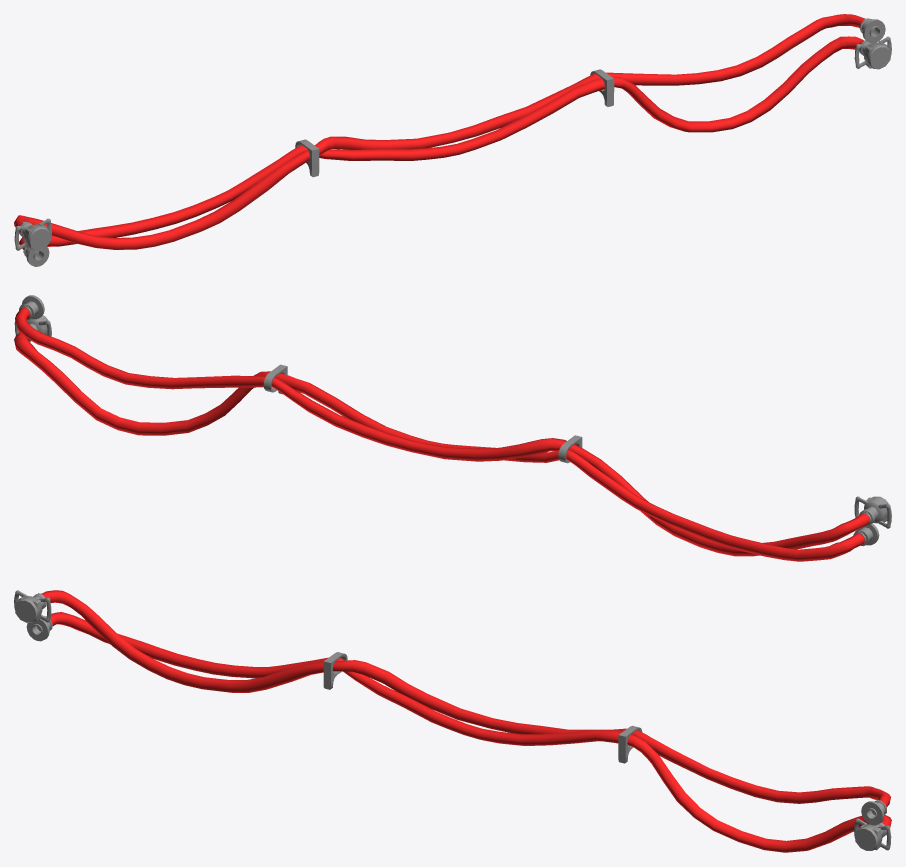
File: Tube_Industrial_Scifi_Wall_1200_A.fbx
3 renders of one model, top to bottom at view 1: azimuth 30°, elevation 25°; view 2: azimuth 150°, elevation 25°; view 3: azimuth 330°, elevation 25°, orthographic.
Visible parts, largest first — view 1: Geom_Tube_Industrial_Scifi_Wall_1200_A_LOD00; view 2: Geom_Tube_Industrial_Scifi_Wall_1200_A_LOD00; view 3: Geom_Tube_Industrial_Scifi_Wall_1200_A_LOD00.
Part boxes in pixels (box(x1,y1,x2,y2)): Geom_Tube_Industrial_Scifi_Wall_1200_A_LOD00: box(14, 14, 891, 266); Geom_Tube_Industrial_Scifi_Wall_1200_A_LOD00: box(14, 295, 891, 561); Geom_Tube_Industrial_Scifi_Wall_1200_A_LOD00: box(14, 590, 891, 852).
Size of what is drawn, in the model's own units: 1219 by 85.89 by 127.
